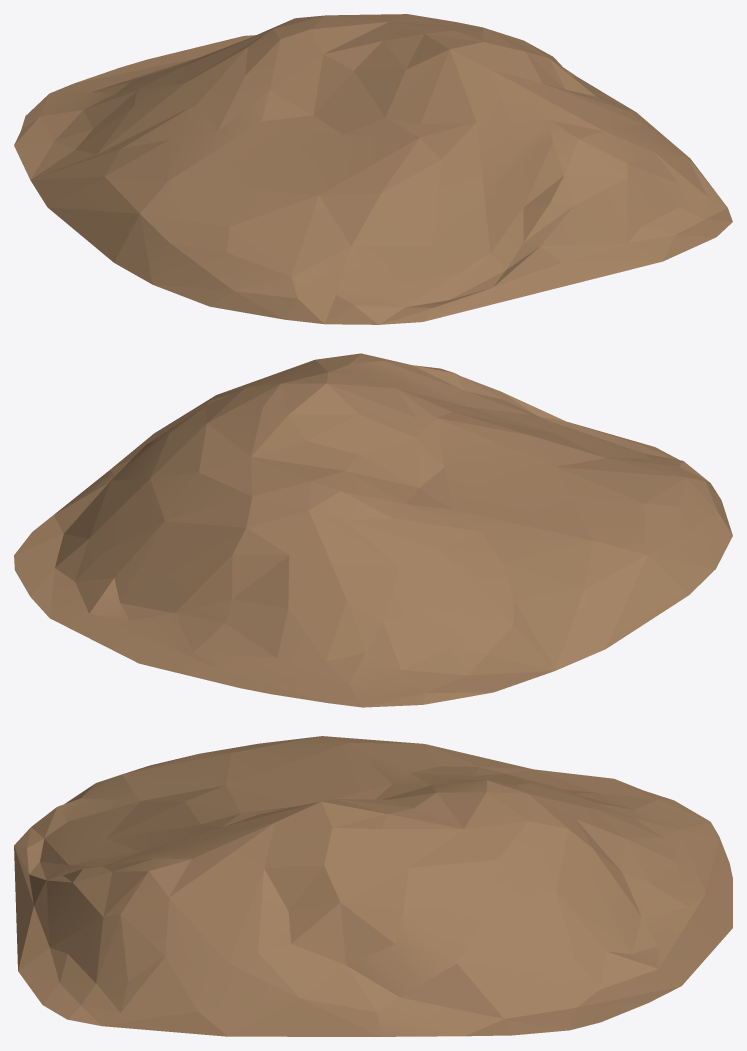
File: Hill_04.fbx
The picture shows the model from 3 angles, top to bottom: view 1: azimuth 30°, elevation 25°; view 2: azimuth 150°, elevation 25°; view 3: azimuth 270°, elevation 25°; orthographic projection. The views are drawn at different scales.
Visible parts, largest first — view 1: Hill_04; view 2: Hill_04; view 3: Hill_04.
Part boxes in pixels (left/top/right/bottom): Hill_04: left=14, top=14, right=732, bottom=324; Hill_04: left=14, top=353, right=732, bottom=707; Hill_04: left=14, top=736, right=732, bottom=1036.
Bounding box in the file's own units: 5623 × 1254 × 6100.
